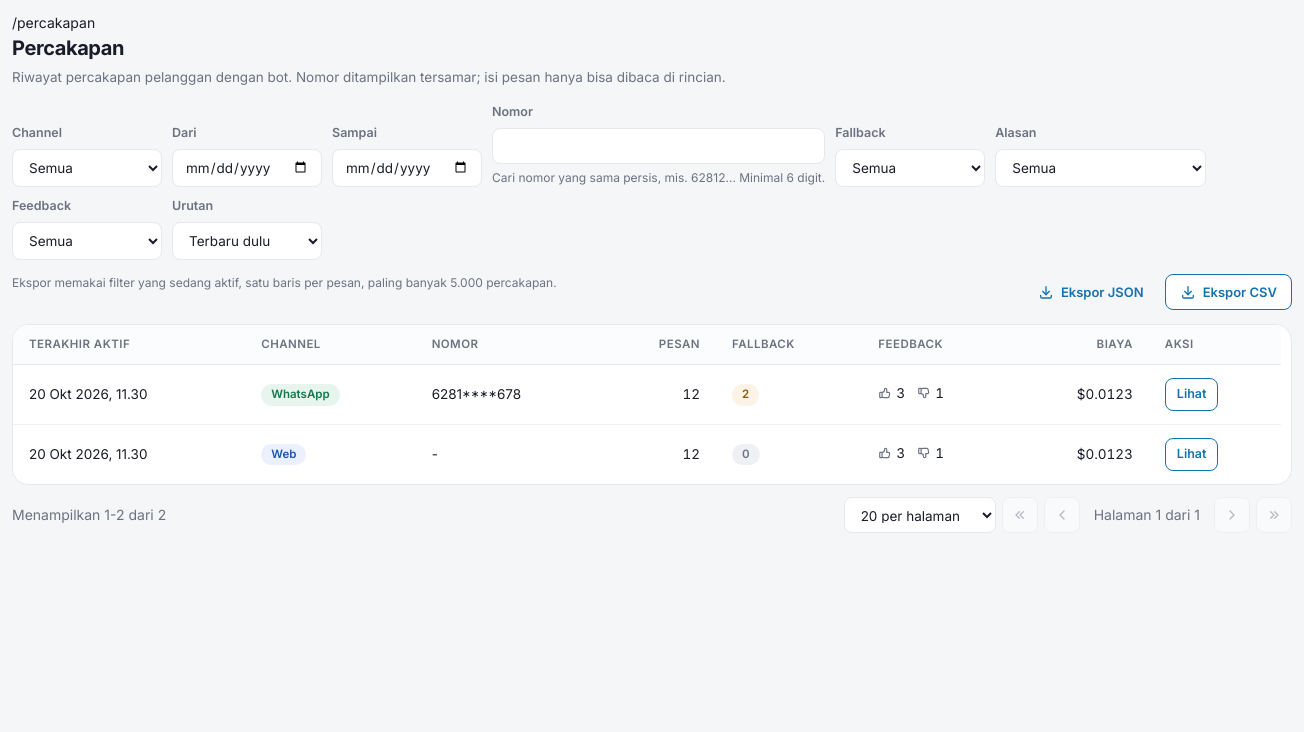
Percakapan (daftar) › urutan terlama dikirim sebagai sort naik dan ditulis di URL
The width and height of the screenshot is (1304, 732).
Check: the table is shown, box [13, 325, 1281, 484]
Select "Terlama dulu" in the dropdown labelled "Urutan": (247, 241) [172, 222, 322, 260]
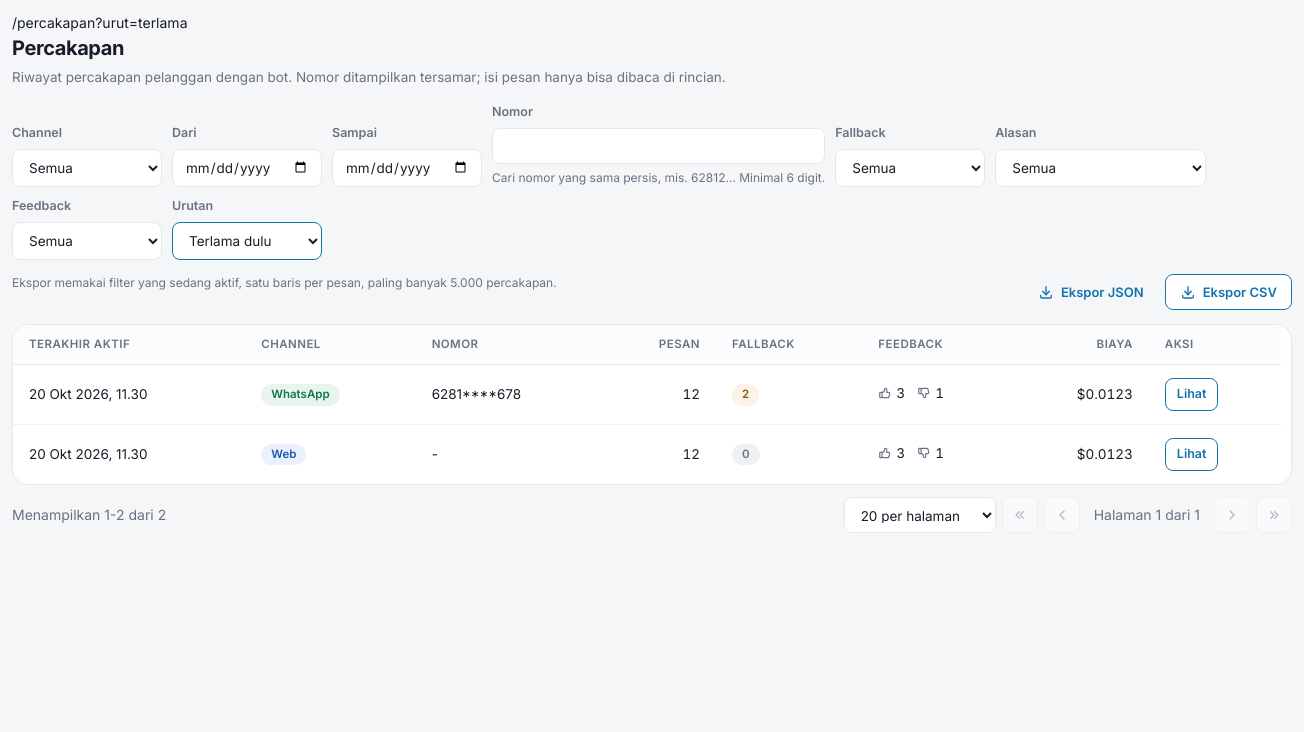
Check: the text with test id "loc" shows "urut=terlama", box [12, 14, 188, 31]
